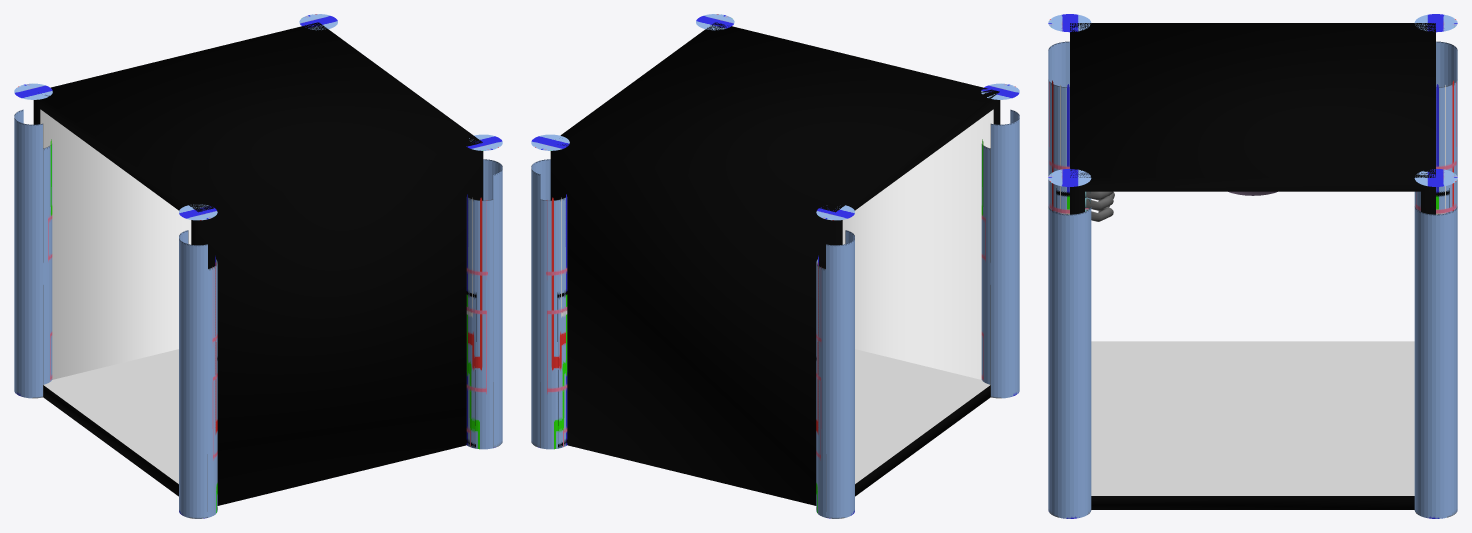
The model's file is tunnel_Type2.fbx.
The picture shows the model from 3 angles, left to right: view 1: azimuth 30°, elevation 25°; view 2: azimuth 150°, elevation 25°; view 3: azimuth 270°, elevation 25°; orthographic projection. The views are drawn at different scales.
Parts seen in each view (by area): view 1: Cube, Cube.002; view 2: Cube, Cube.002; view 3: Cube, Cube.002, Cube.001.
Boxes of the visible parts, x1,y1,x2,y2 form: Cube: (33, 22, 483, 505); Cube.002: (14, 14, 502, 518); Cube: (550, 22, 1000, 505); Cube.002: (531, 14, 1019, 518); Cube: (1070, 23, 1435, 509); Cube.002: (1048, 14, 1457, 518); Cube.001: (1085, 191, 1114, 221).
Size of the model in its own units: 1900 by 1700 by 1900.
